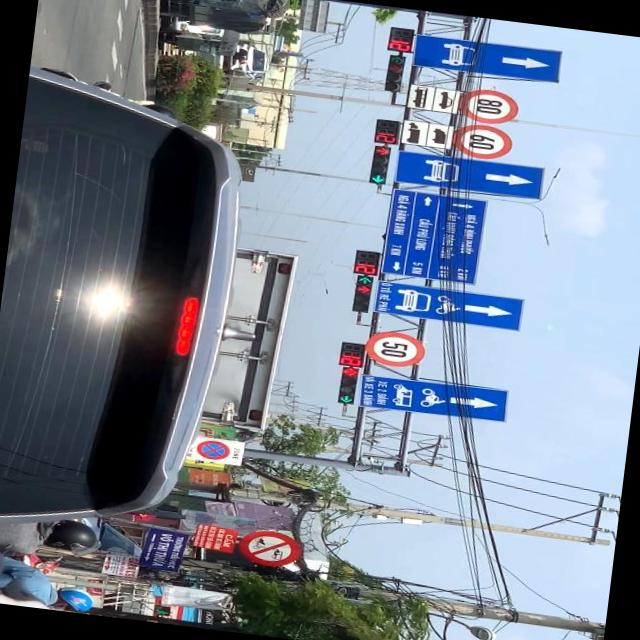P-127: (362, 328, 425, 368)
